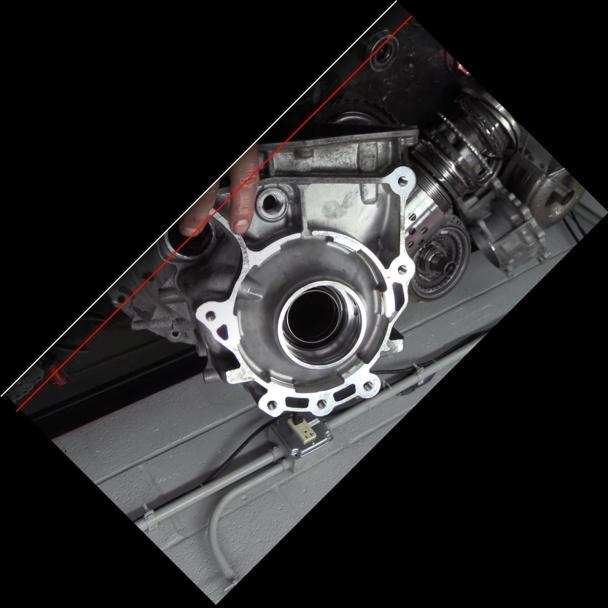hole: (200, 306, 219, 325), (392, 260, 410, 279), (261, 396, 279, 414), (312, 395, 329, 413), (393, 172, 410, 189), (360, 378, 376, 394)
